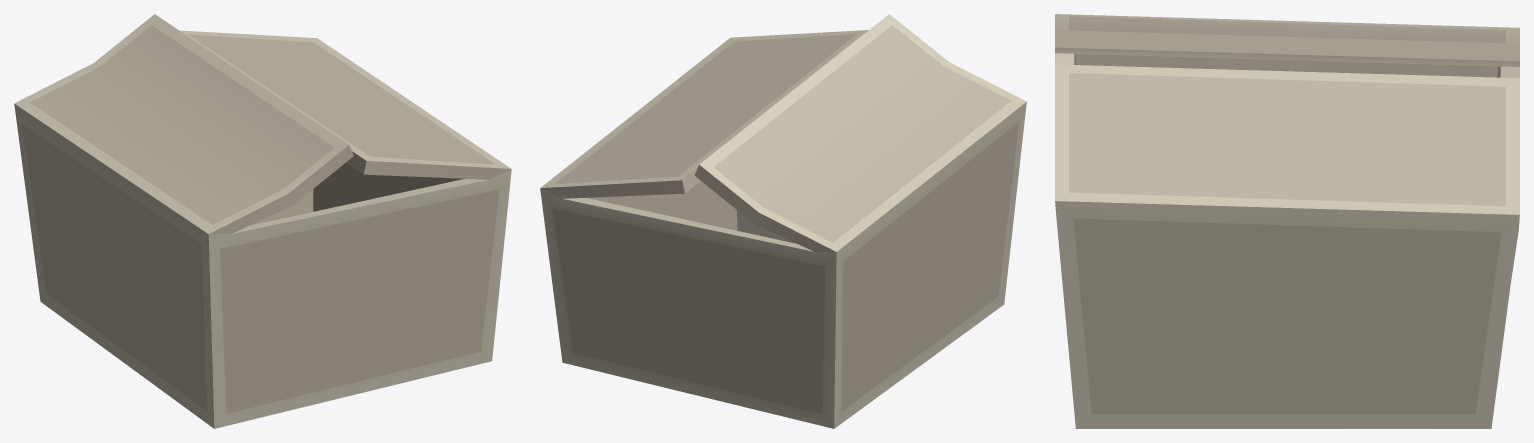
File: FloatingBoxC.glb
3 renders of one model, left to right at view 1: azimuth 30°, elevation 25°; view 2: azimuth 150°, elevation 25°; view 3: azimuth 270°, elevation 25°, orthographic. The views are drawn at different scales.
Parts seen in each view (by area): view 1: FloatingBoxC; view 2: FloatingBoxC; view 3: FloatingBoxC.
Part boxes in pixels (x1=…): FloatingBoxC: x1=14, y1=14, x2=511, y2=428; FloatingBoxC: x1=540, y1=14, x2=1026, y2=428; FloatingBoxC: x1=1055, y1=14, x2=1519, y2=428.
Size of the model in its own units: 1.09 by 0.8937 by 1.21.
